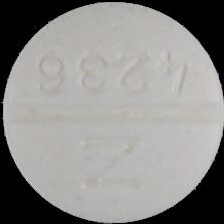42254-218: (0, 0, 224, 224)
